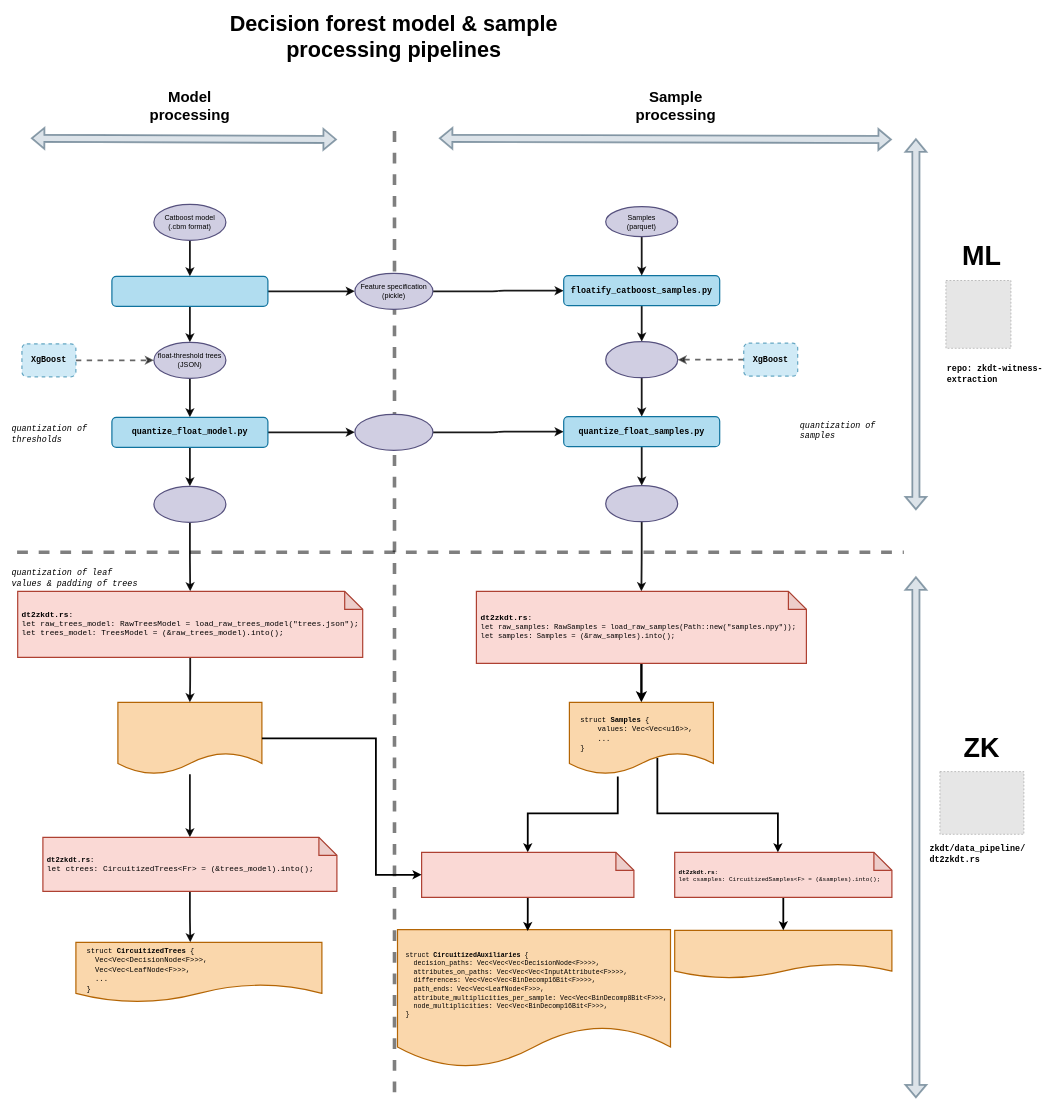
Some shapes in this 1057 by 1108 pixel diagram are drawn without their labels. Grey dashed boxes stand in for pictures. Each missing label, with the box of its shape:
Boundaries specification (npy): (354, 413, 433, 451)
dt2zkdt.rs : circuitize_auxiliaries::<Fr>(&samples, &trees_model);: (421, 851, 634, 898)
float samples (npy): (605, 341, 678, 378)
floatify_catboost_model.py: (111, 275, 268, 307)
struct TreesModel { trees: Vec<Node<i64>>, ... }: (117, 701, 262, 775)
type CircuitizedSamples<F> = Vec<Vec<InputAttribute<F>>>;: (674, 929, 892, 979)
uint samples (npy): (605, 485, 678, 522)
uint-threshold trees (JSON): (153, 485, 226, 523)
